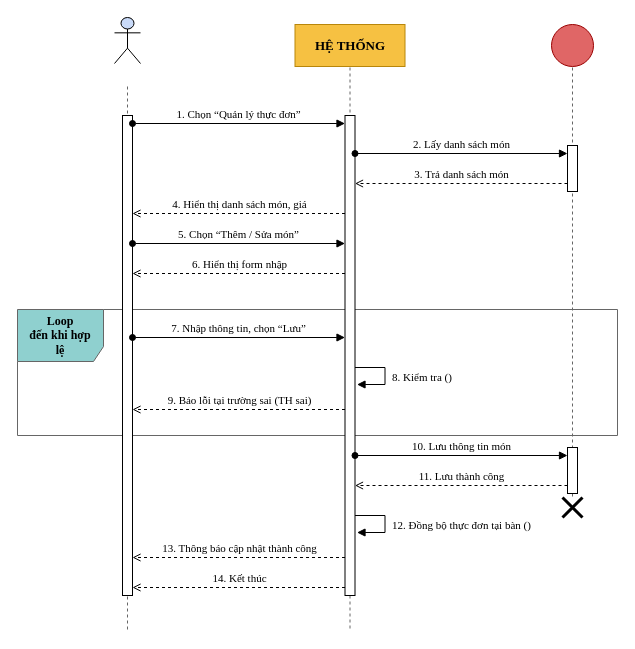
The diagram is 635 pixels wide and 649 high, and some of its shapes have lost their labels. The shapes that lost their labels are listed below. From the top down, each one's centre as x and y in pixels, then its label:
the point at 127,40: Quản lý
the point at 572,45: CSDL
